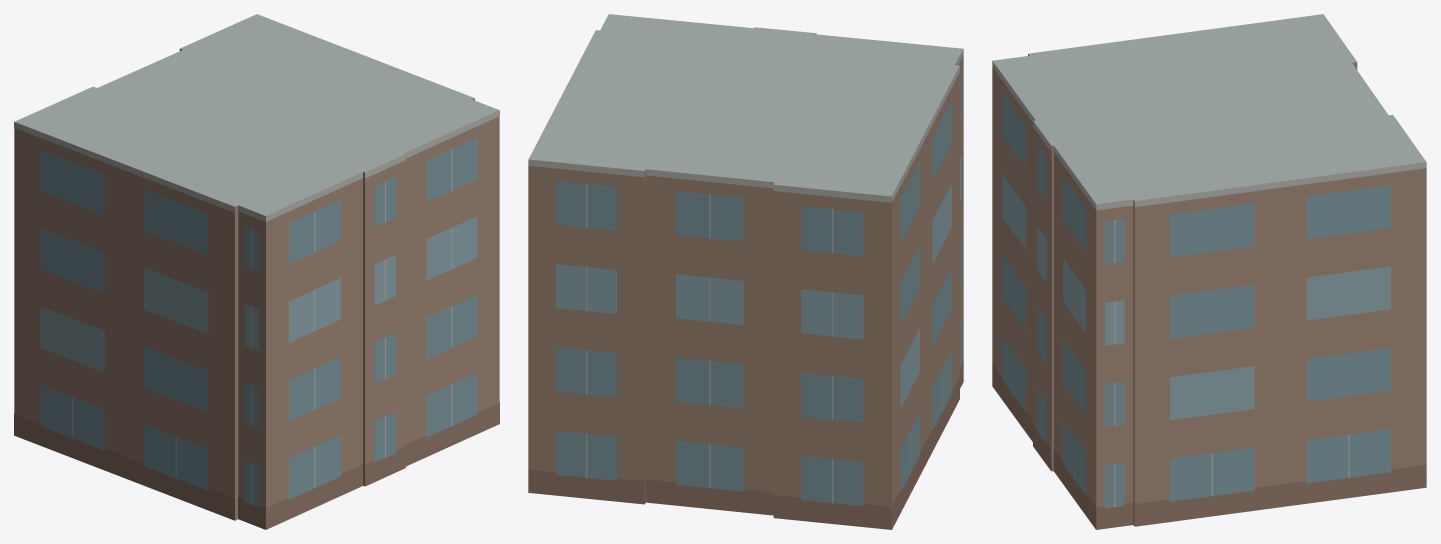
The model's file is survey-upis-32916627.glb.
The picture shows the model from 3 angles, left to right: view 1: azimuth 30°, elevation 25°; view 2: azimuth 150°, elevation 25°; view 3: azimuth 270°, elevation 25°; orthographic projection. The views are drawn at different scales.
Visible parts, largest first — view 1: survey-upis-32916627.tmp; view 2: survey-upis-32916627.tmp; view 3: survey-upis-32916627.tmp.
Boxes of the visible parts, x1,y1,x2,y2 form: survey-upis-32916627.tmp: (14,14,499,529); survey-upis-32916627.tmp: (528,14,963,529); survey-upis-32916627.tmp: (992,14,1426,529).
Size of the model in its own units: 16.25 by 12.95 by 15.67.
